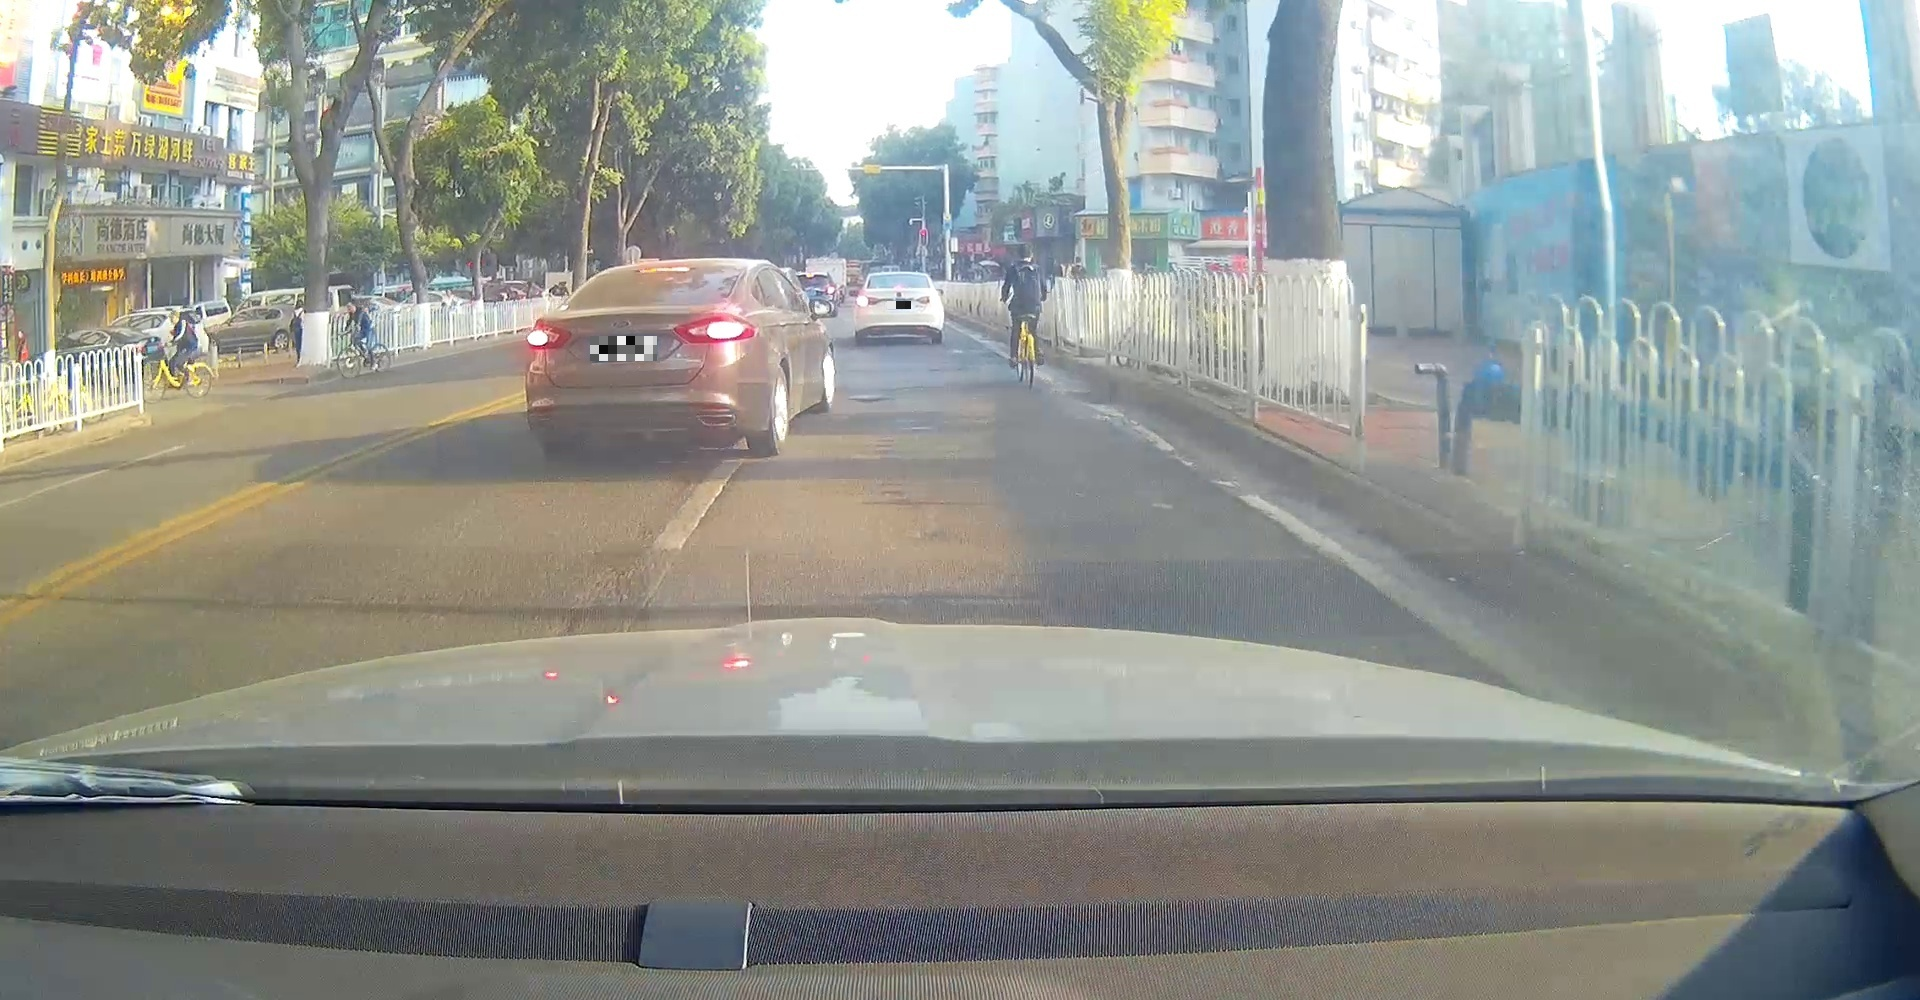L_light: (526, 319, 571, 352), (855, 293, 879, 307)
R_light: (673, 312, 757, 343), (916, 294, 941, 305)
T_light: (639, 266, 690, 273), (891, 286, 905, 289)
day-brake: (524, 258, 762, 457), (855, 272, 943, 344)
plate_1: (590, 336, 657, 360)
plate_2: (888, 301, 910, 308)
